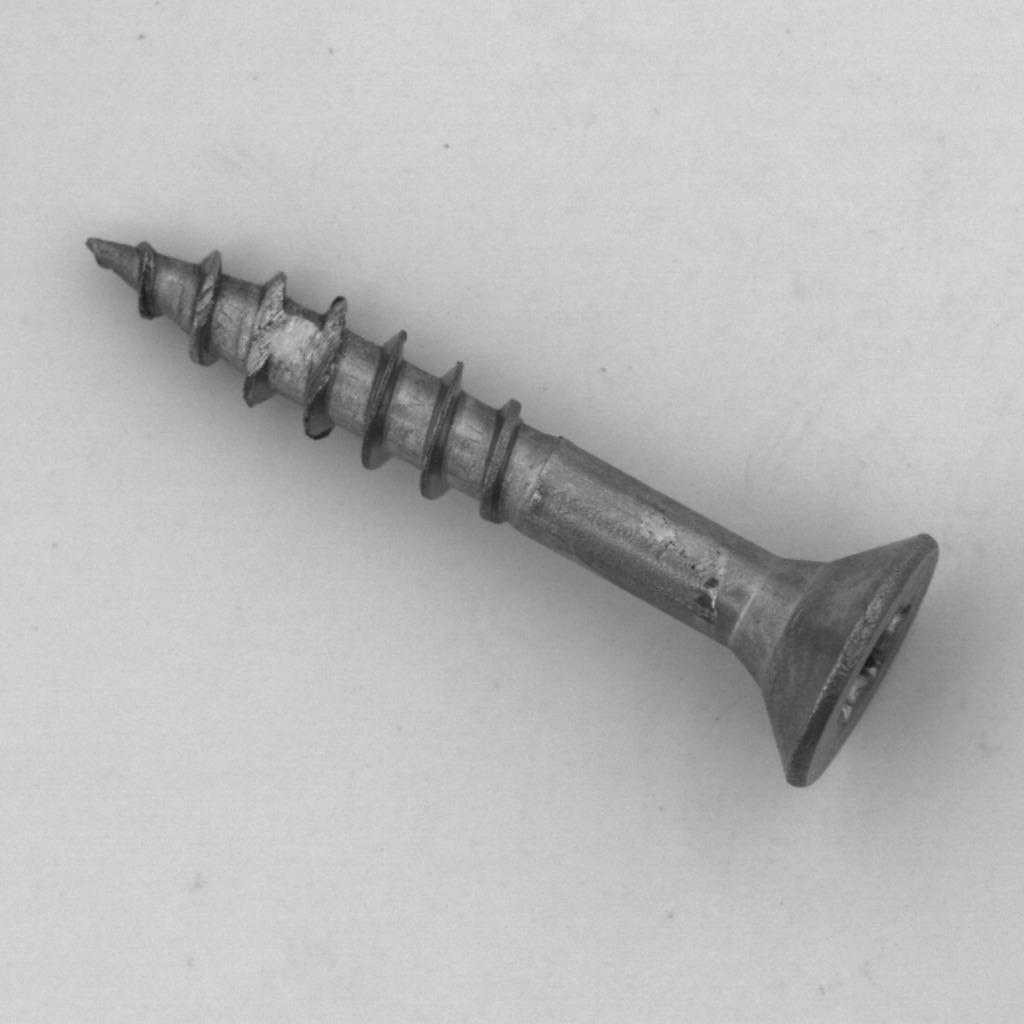thread_top: (158, 209, 407, 449)
